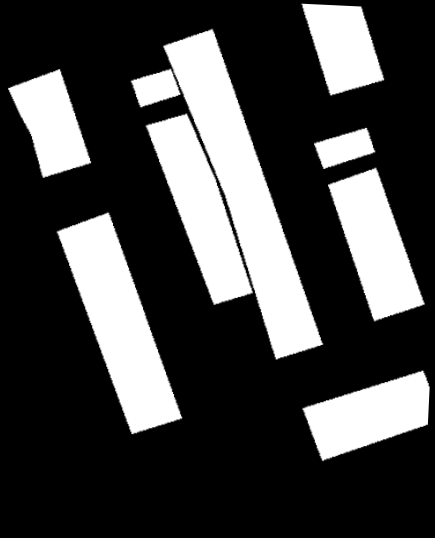parkingspot: (163, 29, 323, 360), (57, 213, 182, 434), (146, 114, 253, 305), (328, 168, 425, 321), (302, 371, 430, 461), (8, 69, 91, 178), (302, 4, 384, 95), (314, 128, 375, 169), (131, 69, 180, 107)
